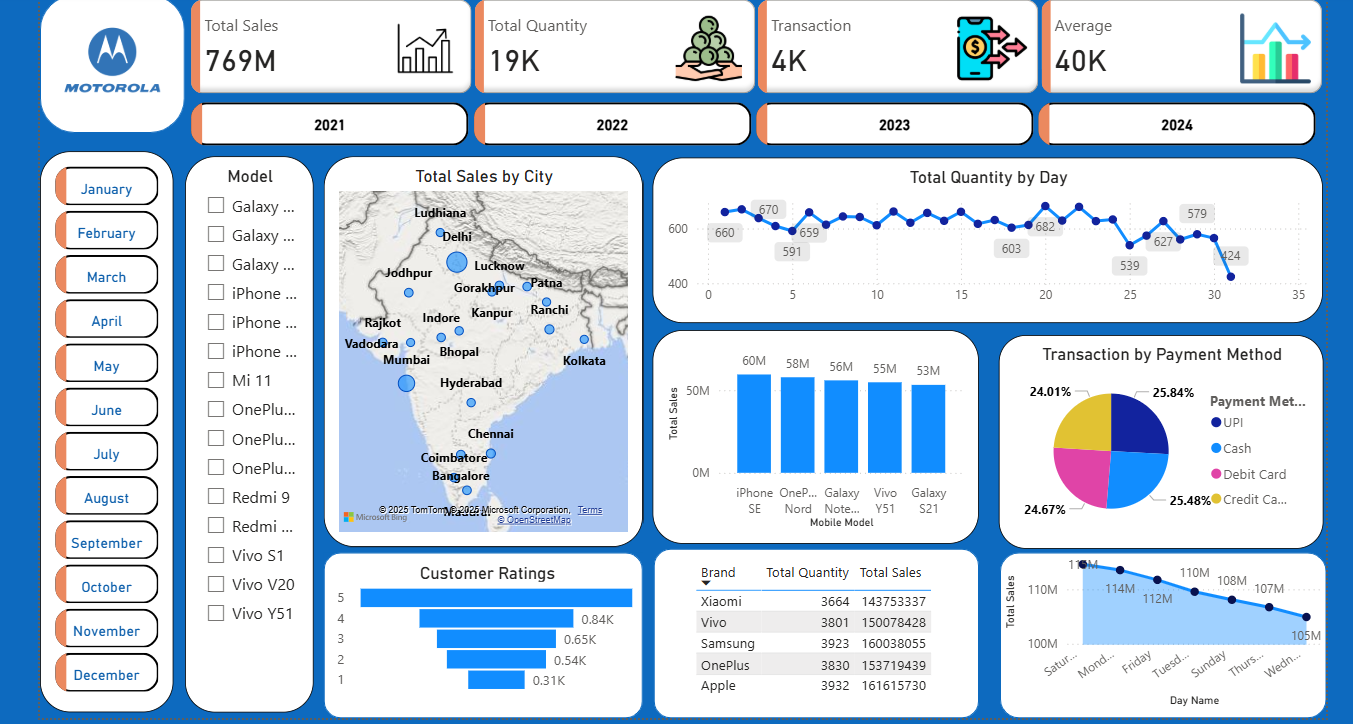

This screenshot's page, from the dashboard's own definition file:
{"tool":"powerbi","page":{"name":"Page 1","canvas":[1280,720],"ordinal":0},"visuals":[{"type":"cardVisual","fields":{"Data":["Sheet1.Total Sales","Sheet1.Total Quantity","Sheet1.Transaction","Sheet1.Average"]},"box":[145,0,1135,103.8],"z":0},{"type":"shape","box":[0,0,144.1,137.2],"z":1000},{"type":"image","box":[0,0,143.8,137.5],"z":2000},{"type":"map","fields":{"Category":["Sheet1.City"],"Size":["Sheet1.Total Sales"]},"box":[282.5,160,317.5,388.8],"z":4000},{"type":"lineChart","fields":{"Category":["Sheet1.Date .Variation.Date Hierarchy.Month","Sheet1.Date .Variation.Date Hierarchy.Day"],"Y":["Sheet1.Total Quantity"]},"box":[610,161.2,667.5,165],"z":5000},{"type":"clusteredColumnChart","fields":{"Category":["Sheet1.Mobile Model"],"Y":["Sheet1.Total Sales"]},"box":[609.5,333.4,324.7,212.7],"z":6000},{"type":"pieChart","fields":{"Category":["Sheet1.Payment Method"],"Y":["Sheet1.Transaction"]},"box":[954.1,338.4,323.4,212.7],"z":7000},{"type":"shape","box":[955,555,325,165],"z":8000},{"type":"areaChart","fields":{"Category":["Sheet1.Day Name"],"Y":["Sheet1.Total Sales"]},"box":[955,548.8,325,165],"z":9000},{"type":"shape","box":[282.5,555,317.5,165],"z":10000},{"type":"funnel","title":"Customer Ratings ","fields":{"Y":["CountNonNull(Sheet1.Customer Ratings)"],"Category":["Sheet1.Customer Ratings"]},"box":[291.1,564.8,308.5,133.1],"z":11000},{"type":"shape","box":[611.2,551.2,323.8,168.8],"z":12000},{"type":"tableEx","fields":{"Values":["Sheet1.Brand","Sheet1.Total Quantity","Sheet1.Total Sales"]},"box":[646.2,558.8,288.8,145],"z":13000},{"type":"advancedSlicerVisual","fields":{"Values":["Sheet1.Date .Variation.Date Hierarchy.Month"]},"box":[0,155.5,133.1,558.5],"z":14000},{"type":"advancedSlicerVisual","fields":{"Values":["Sheet1.Date .Variation.Date Hierarchy.Year"]},"box":[145.5,102,1132,53.5],"z":16000},{"type":"slicer","title":"Model","fields":{"Values":["Sheet1.Mobile Model"]},"box":[144.3,160.5,128.1,553.6],"z":18000}]}

Visuals, with their boxes in screenshot pixels (x1, y1, x2, y2):
cardVisual - Sheet1.Total Sales x Sheet1.Total Quantity: rect(182, 0, 1305, 99)
shape: rect(39, 0, 181, 132)
image: rect(39, 0, 181, 133)
map - Sheet1.City x Sheet1.Total Sales: rect(318, 155, 632, 539)
lineChart - Sheet1.Date .Variation.Date Hierarchy.Month x Sheet1.Date .Variation.Date Hierarchy.Day: rect(642, 156, 1303, 319)
clusteredColumnChart - Sheet1.Mobile Model x Sheet1.Total Sales: rect(642, 326, 963, 537)
pieChart - Sheet1.Payment Method x Sheet1.Transaction: rect(983, 331, 1303, 542)
shape: rect(984, 546, 1305, 709)
areaChart - Sheet1.Day Name x Sheet1.Total Sales: rect(984, 539, 1305, 703)
shape: rect(318, 546, 632, 709)
"Customer Ratings " funnel: rect(327, 555, 632, 687)
shape: rect(643, 542, 964, 709)
tableEx - Sheet1.Brand x Sheet1.Total Quantity: rect(678, 549, 964, 693)
advancedSlicerVisual - Sheet1.Date .Variation.Date Hierarchy.Month: rect(39, 150, 170, 703)
advancedSlicerVisual - Sheet1.Date .Variation.Date Hierarchy.Year: rect(183, 97, 1303, 150)
"Model" slicer: rect(182, 155, 308, 703)
